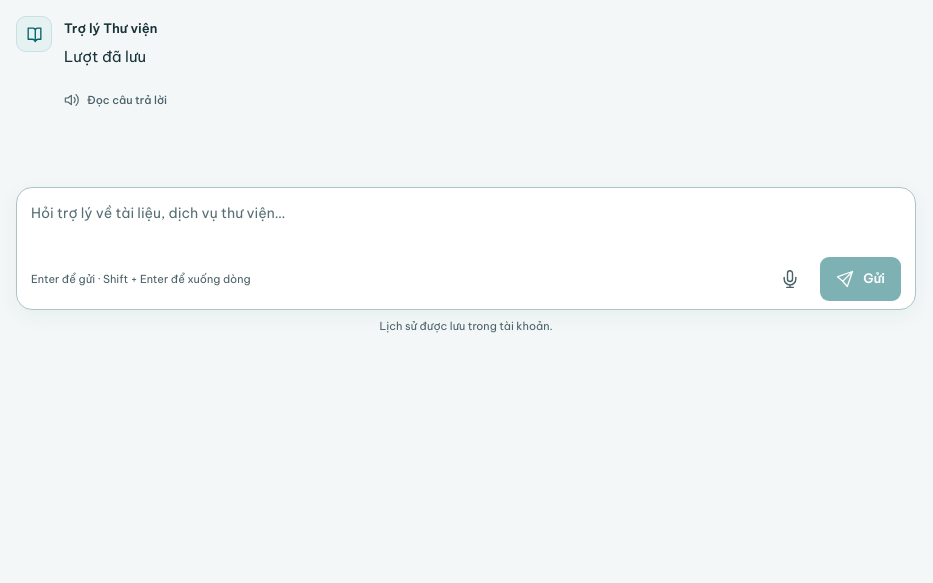
Test case: chat recovery and request isolation › reloads the latest saved turns after a same-conversation conflict and retains the draft
The width and height of the screenshot is (933, 583).
Expected: the text "Lượt đã lưu" is shown, [64,47,146,66]
Type "Còn cuốn tiếp theo?" into the text box named "Câu hỏi của bạn" at point(466, 225), box [31,200,901,249]
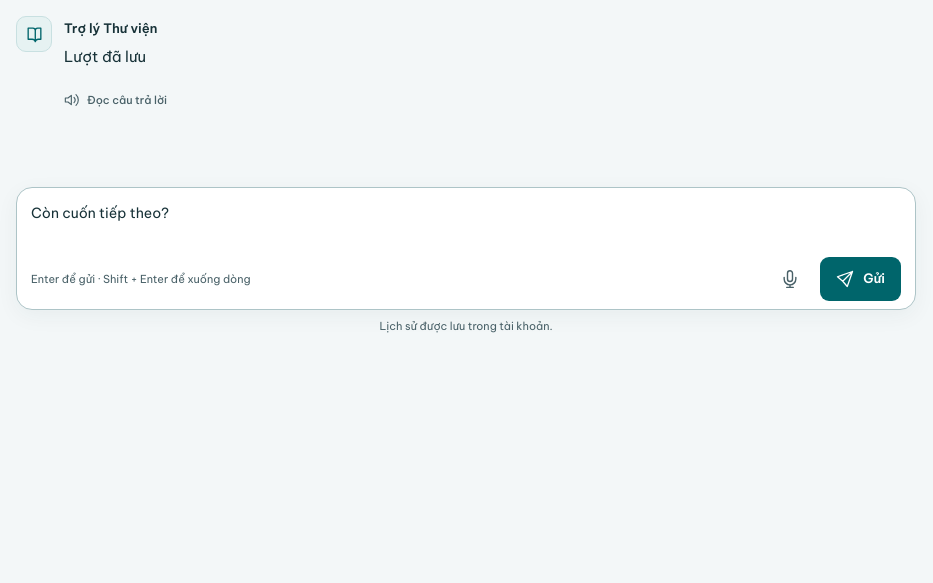
Submit the form named "Gửi câu hỏi", box [16,187,916,310]
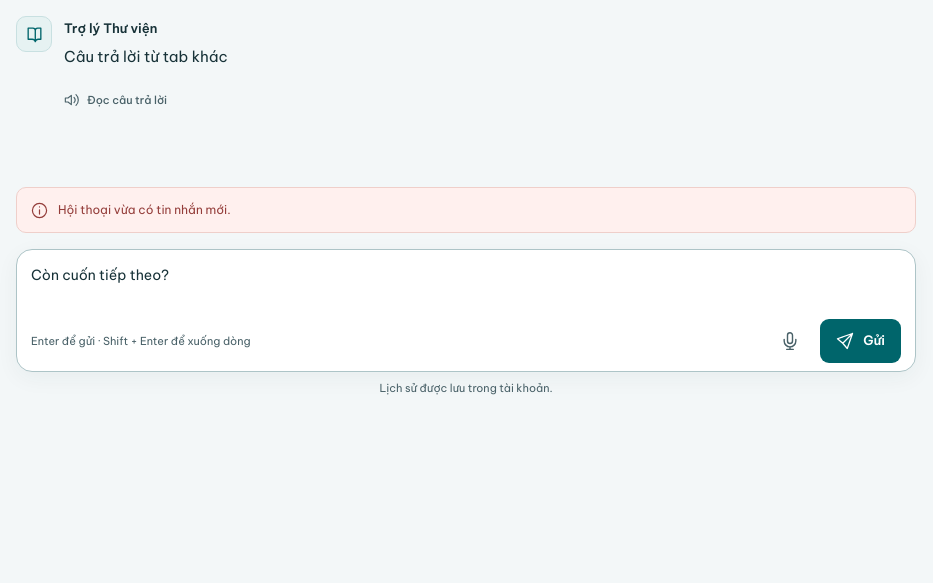
Result: the text "Câu trả lời từ tab khác" is shown at [64,47,228,66]
Submit the form named "Gửi câu hỏi", box [16,249,916,372]
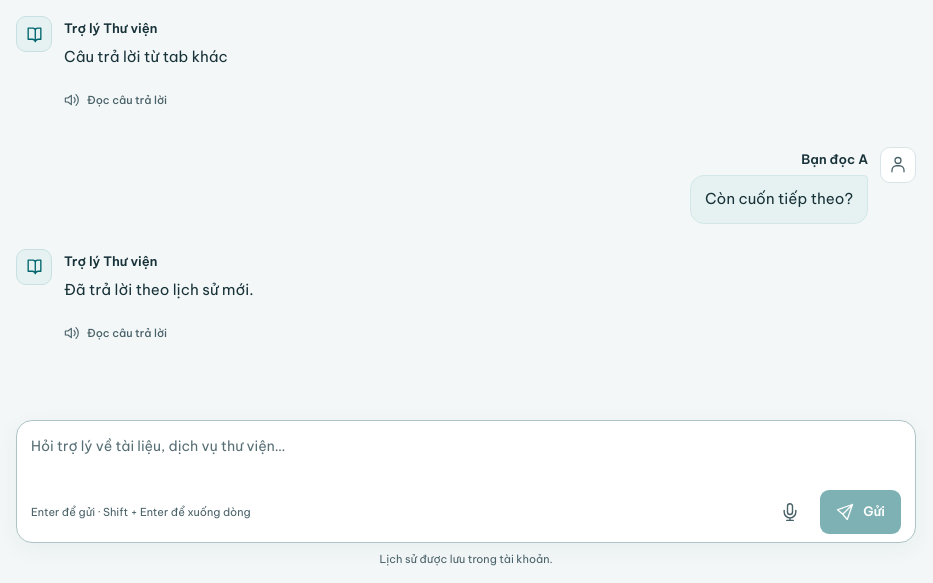
Result: the text "Đã trả lời theo lịch sử mới." is shown at [64,280,254,298]
Result: the text "Còn cuốn tiếp theo?" is shown once at [690,175,868,224]
